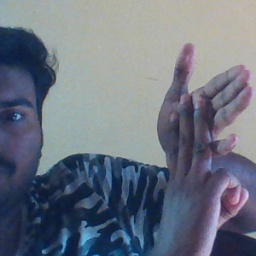M: (150, 38, 254, 213)
